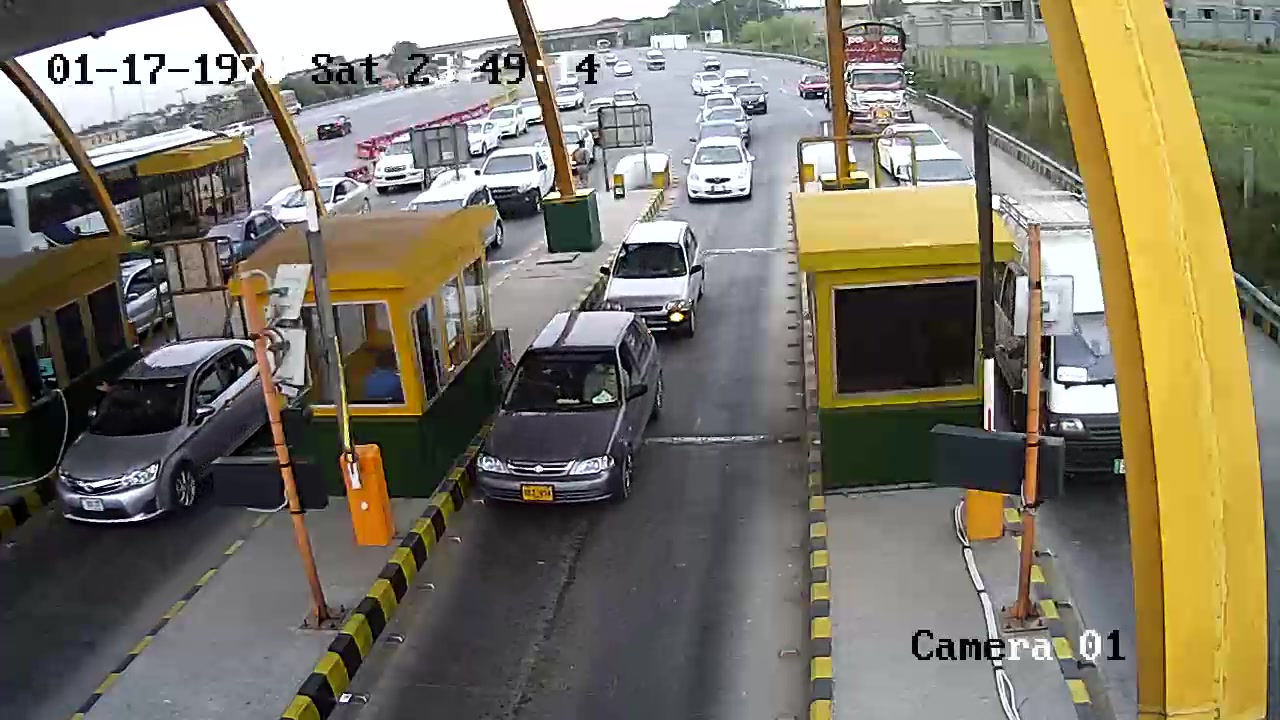F1: (468, 301, 672, 510), (601, 214, 715, 346)
